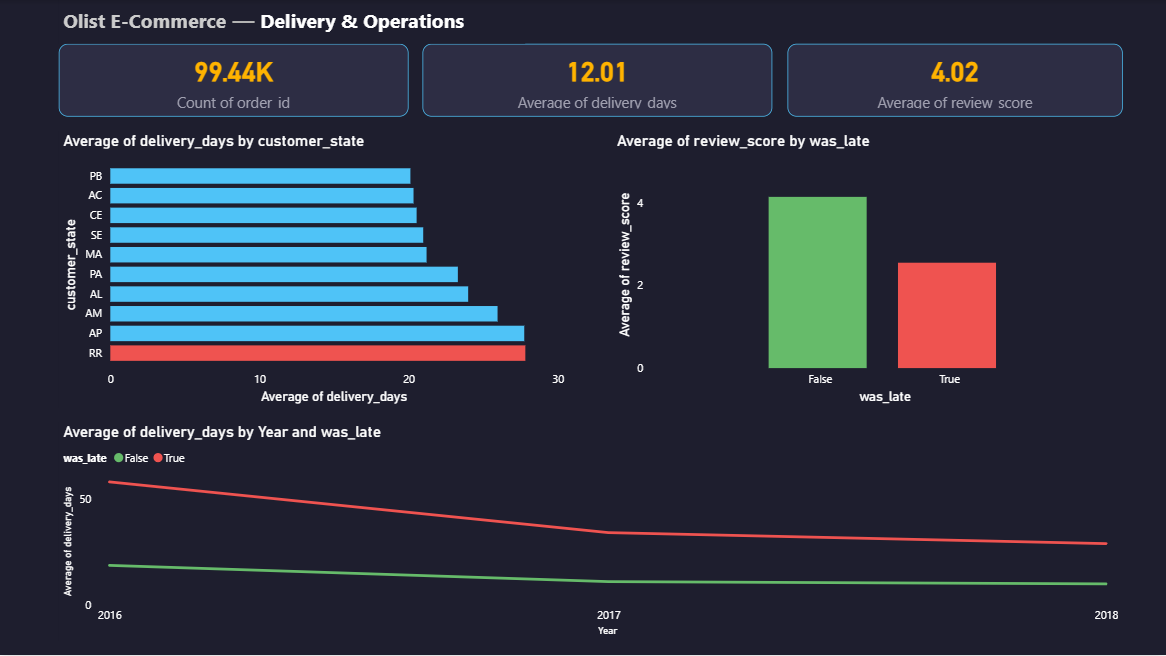

Layout of this report page (visuals, bound fields, positions):
{"tool":"powerbi","page":{"name":"Delivery & Operations","canvas":[1280,720],"ordinal":1},"visuals":[{"type":"clusteredBarChart","fields":{"Category":["olist_master.customer_state"],"Y":["Avg(olist_master.delivery_days)"]},"box":[64,144,560,304],"z":0},{"type":"clusteredColumnChart","fields":{"Category":["olist_master.was_late"],"Y":["Avg(olist_master.review_score)"]},"box":[672,144,560,304],"z":1000},{"type":"card","fields":{"Values":["Count(olist_master.order_id)"]},"box":[64,48,384,80],"z":2000},{"type":"card","fields":{"Values":["Avg(olist_master.delivery_days)"]},"box":[464,48,384,80],"z":3000},{"type":"card","fields":{"Values":["Avg(olist_master.review_score)"]},"box":[864,48,368,80],"z":4000},{"type":"lineChart","fields":{"Category":["olist_master.order_purchase_timestamp.Variation.Date Hierarchy.Year","olist_master.order_purchase_timestamp.Variation.Date Hierarchy.Month"],"Y":["Avg(olist_master.delivery_days)"],"Series":["olist_master.was_late"]},"box":[64,464,1168,240],"z":5000},{"type":"textbox","box":[64,0,512,48],"z":6000}]}

Visuals, with their boxes in screenshot pixels (x1, y1, x2, y2), scaled from the page's 1280x720 canvas onto the 1166x656 screenshot:
clusteredBarChart - olist_master.customer_state x Avg(olist_master.delivery_days): {"x1": 58, "y1": 131, "x2": 568, "y2": 408}
clusteredColumnChart - olist_master.was_late x Avg(olist_master.review_score): {"x1": 612, "y1": 131, "x2": 1122, "y2": 408}
card - Count(olist_master.order_id): {"x1": 58, "y1": 44, "x2": 408, "y2": 117}
card - Avg(olist_master.delivery_days): {"x1": 423, "y1": 44, "x2": 772, "y2": 117}
card - Avg(olist_master.review_score): {"x1": 787, "y1": 44, "x2": 1122, "y2": 117}
lineChart - olist_master.order_purchase_timestamp.Variation.Date Hierarchy.Year x olist_master.order_purchase_timestamp.Variation.Date Hierarchy.Month: {"x1": 58, "y1": 423, "x2": 1122, "y2": 641}
textbox: {"x1": 58, "y1": 0, "x2": 525, "y2": 44}
